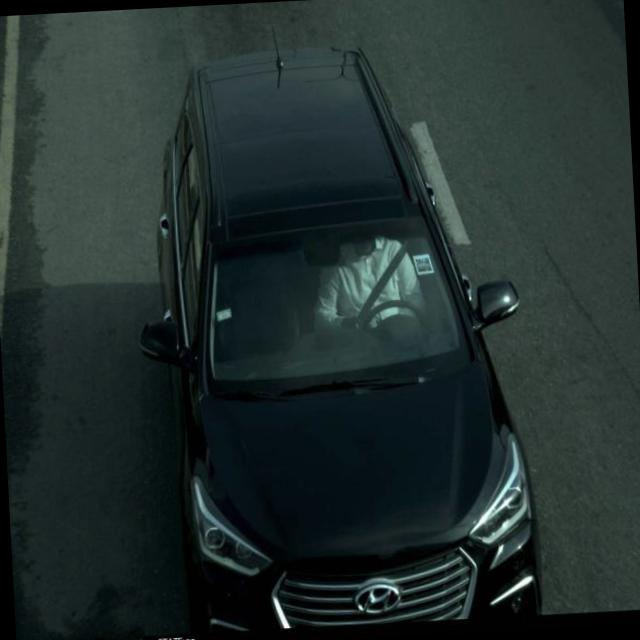person_with_seatbelt: (318, 234, 432, 351)
